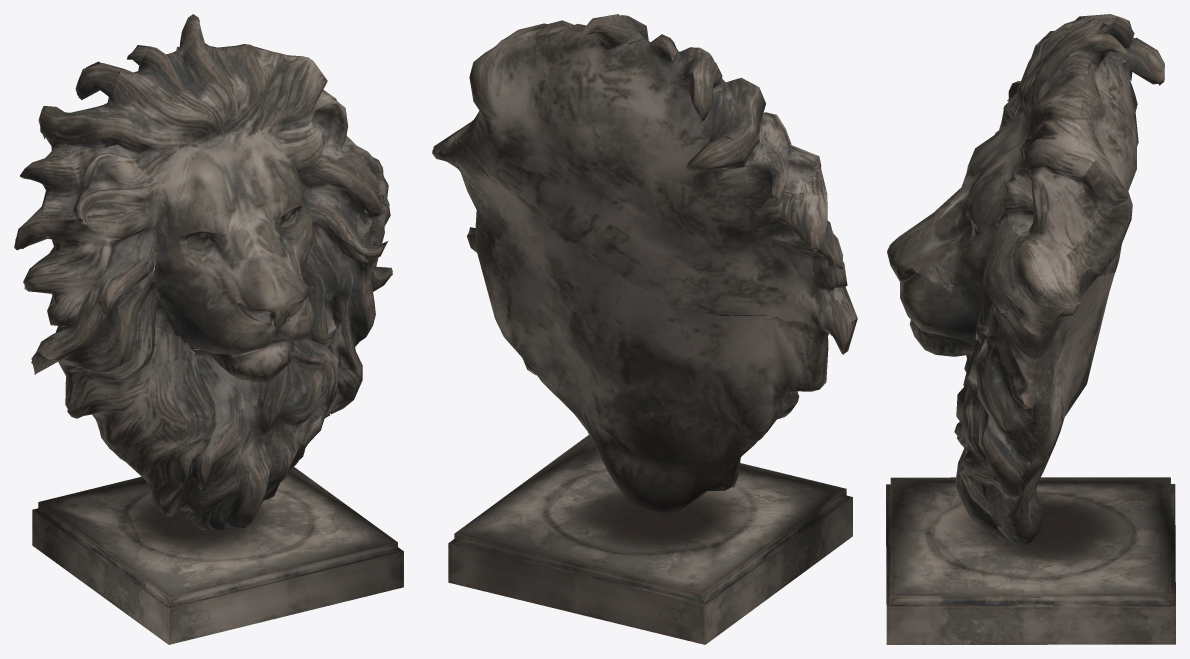
The model's file is lion_head.glb.
3 views of the same model, side by side, from view 1: azimuth 30°, elevation 25°; view 2: azimuth 150°, elevation 25°; view 3: azimuth 270°, elevation 25° (orthographic). The views are drawn at different scales.
Visible parts, largest first — view 1: lion_head; view 2: lion_head; view 3: lion_head.
Part boxes in pixels (bbox=[...]): lion_head: bbox=[14, 14, 403, 644]; lion_head: bbox=[432, 14, 857, 644]; lion_head: bbox=[886, 14, 1175, 644].
Size of the model in its own units: 0.3204 by 0.4351 by 0.2066.
1 material, 1 textured.
